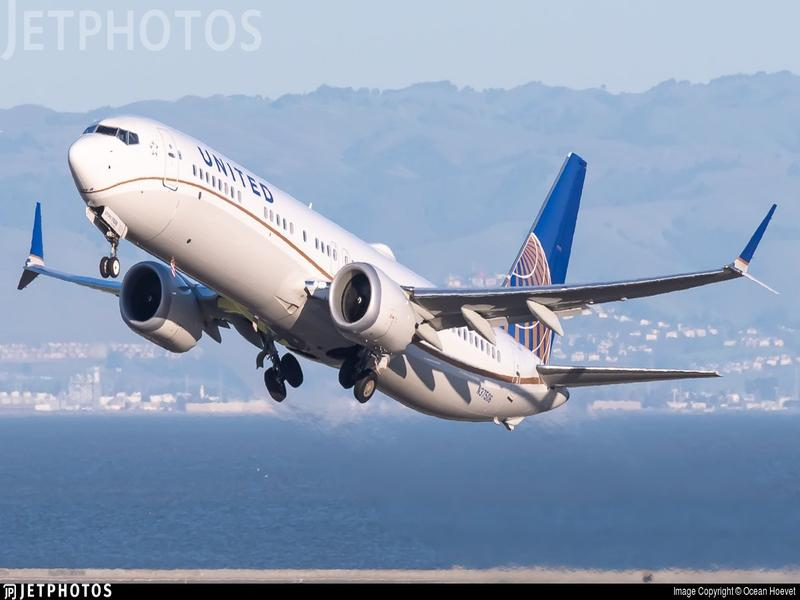plane: (5, 106, 788, 438)
